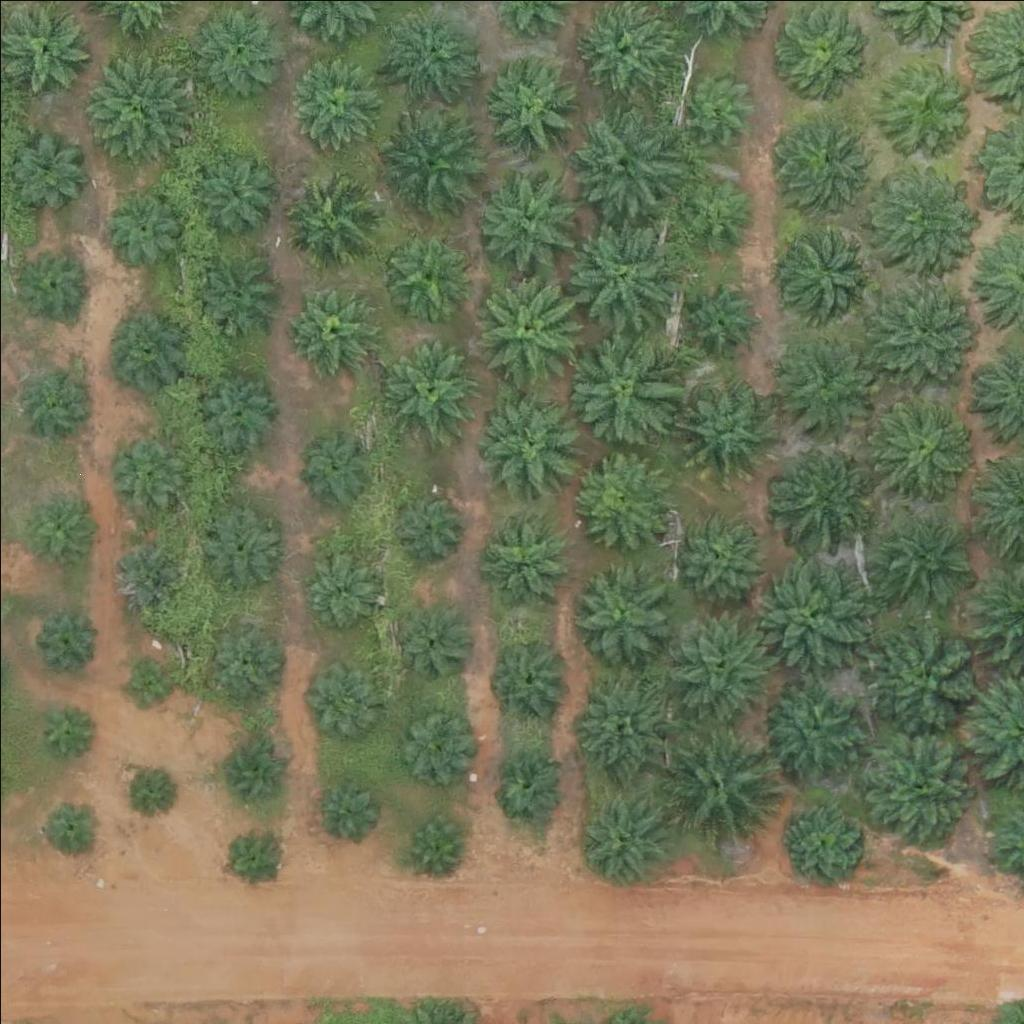Kelapa_Sawit: (853, 724, 978, 850), (865, 613, 990, 739), (860, 266, 985, 392), (745, 549, 870, 675), (654, 723, 779, 849), (658, 600, 783, 726), (556, 324, 681, 450), (556, 211, 681, 337), (464, 264, 589, 390), (566, 107, 679, 220), (869, 155, 982, 268), (376, 103, 488, 217), (870, 502, 970, 603), (869, 401, 969, 502), (762, 446, 862, 547), (774, 341, 874, 442), (671, 378, 771, 479), (84, 56, 184, 157), (480, 56, 580, 157), (778, 224, 878, 325), (776, 112, 876, 213), (873, 55, 973, 156), (764, 678, 864, 778), (574, 786, 674, 886), (570, 670, 670, 770), (570, 563, 670, 663), (568, 446, 668, 546), (477, 390, 577, 490), (383, 339, 483, 439), (280, 163, 380, 263), (286, 48, 386, 148), (475, 171, 575, 271), (195, 504, 283, 592), (100, 304, 188, 392), (480, 512, 568, 600), (191, 364, 279, 452), (3, 127, 91, 215), (382, 227, 470, 315), (388, 10, 476, 98), (486, 633, 573, 721), (675, 508, 762, 596), (287, 283, 374, 371), (192, 245, 279, 333), (190, 147, 277, 235), (304, 554, 379, 630), (394, 606, 469, 682), (389, 487, 464, 563), (300, 431, 375, 507), (782, 805, 857, 881), (494, 745, 569, 821), (396, 704, 471, 779), (303, 662, 378, 737), (205, 618, 280, 693), (677, 71, 752, 146), (678, 175, 753, 250), (11, 242, 86, 317), (23, 358, 98, 433), (113, 432, 188, 507), (685, 278, 760, 353), (106, 533, 181, 608), (105, 184, 180, 259), (223, 826, 286, 889), (222, 737, 285, 800), (25, 497, 88, 560), (404, 810, 466, 873), (314, 777, 376, 840), (39, 795, 101, 858), (35, 695, 97, 758), (35, 608, 97, 671), (121, 763, 171, 814), (122, 657, 172, 708)
